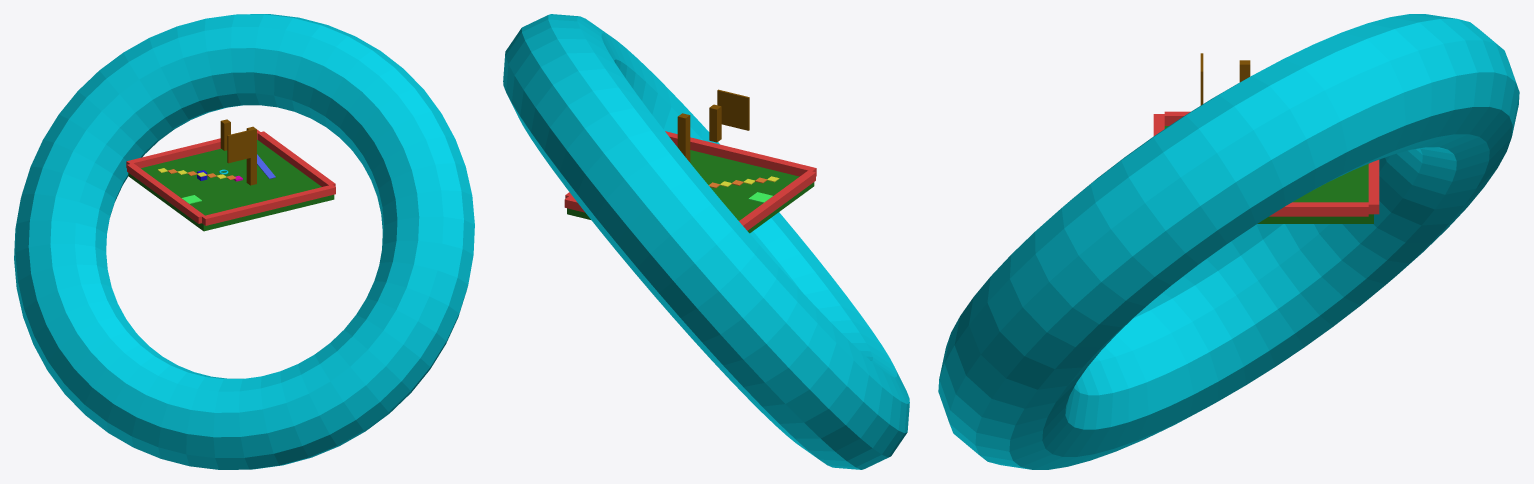
3 renders of one model, left to right at view 1: azimuth 30°, elevation 25°; view 2: azimuth 150°, elevation 25°; view 3: azimuth 270°, elevation 25°, orthographic. The views are drawn at different scales.
Parts seen in each view (by area): view 1: Torus2, Floor, Wall4, Wall3, Wall1, Wall2, Ladder3; view 2: Torus2, Floor, Wall4, Wall3, Ladder3, Ladder1, Ladder2; view 3: Torus2, Floor, Wall2, Wall1.
Boxes of the visible parts, x1,y1,x2,y2 form: Torus2: (14,14,474,469); Floor: (128,140,334,231); Wall4: (202,184,335,225); Wall3: (127,163,204,223); Wall1: (126,129,260,168); Wall2: (257,131,335,186); Ladder3: (227,129,254,163); Torus2: (503,14,909,469); Floor: (567,150,814,233); Wall4: (665,131,816,176); Wall3: (739,170,815,230); Ladder3: (717,89,749,130); Ladder1: (677,113,690,162); Ladder2: (709,104,721,142); Torus2: (938,14,1519,469); Floor: (1164,126,1373,223); Wall2: (1269,202,1368,216); Wall1: (1368,160,1379,214).
Size of the model in its own units: 108 by 103 by 108.
